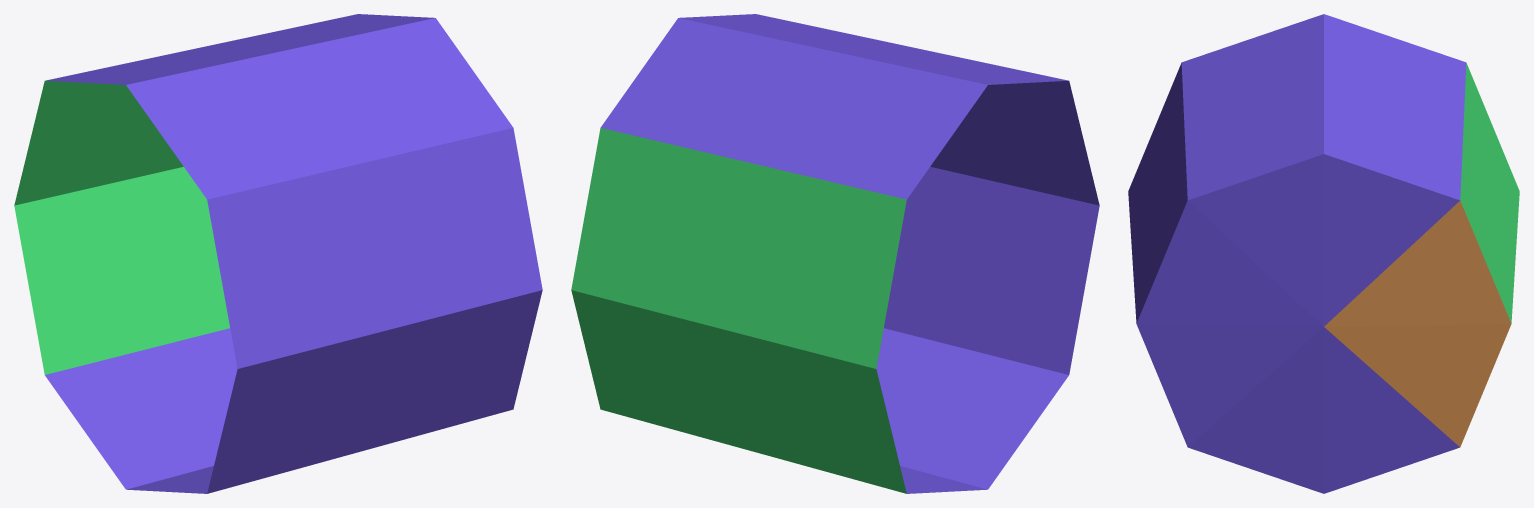
The model's file is MotorShaft.glb.
The picture shows the model from 3 angles, left to right: view 1: azimuth 30°, elevation 25°; view 2: azimuth 150°, elevation 25°; view 3: azimuth 270°, elevation 25°; orthographic projection. The views are drawn at different scales.
Visible parts, largest first — view 1: Shaft; view 2: Shaft; view 3: Shaft.
Boxes of the visible parts, x1,y1,x2,y2 form: Shaft: [14, 14, 542, 493]; Shaft: [571, 14, 1099, 493]; Shaft: [1128, 14, 1519, 493].
Size of the model in its own units: 0.5 by 0.6111 by 0.6111.
